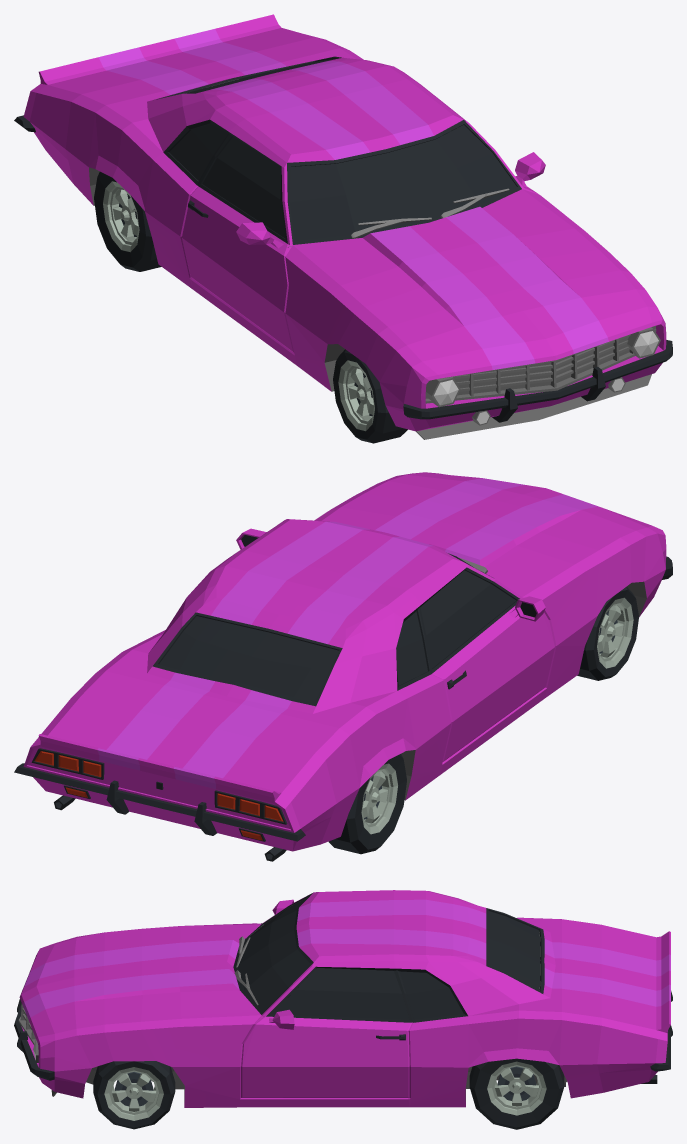
Rendered from Mus_Purple.fbx.
3 views of the same model, one above another, from view 1: azimuth 30°, elevation 25°; view 2: azimuth 150°, elevation 25°; view 3: azimuth 270°, elevation 25° (orthographic). The views are drawn at different scales.
Parts seen in each view (by area): view 1: SM_Veh_Car_Muscle_01.004, SM_Veh_Car_Muscle_Wheel_rr.004, SM_Veh_Car_Muscle_Wheel_fr.004; view 2: SM_Veh_Car_Muscle_01.004, SM_Veh_Car_Muscle_Wheel_rr.004, SM_Veh_Car_Muscle_Wheel_fr.004; view 3: SM_Veh_Car_Muscle_01.004, SM_Veh_Car_Muscle_Wheel_rl.004, SM_Veh_Car_Muscle_Wheel_fl.004.
Boxes of the visible parts, bbox=[...] form: SM_Veh_Car_Muscle_01.004: bbox=[14, 14, 672, 439]; SM_Veh_Car_Muscle_Wheel_rr.004: bbox=[94, 171, 161, 271]; SM_Veh_Car_Muscle_Wheel_fr.004: bbox=[333, 349, 407, 443]; SM_Veh_Car_Muscle_01.004: bbox=[14, 472, 672, 861]; SM_Veh_Car_Muscle_Wheel_rr.004: bbox=[328, 754, 406, 854]; SM_Veh_Car_Muscle_Wheel_fr.004: bbox=[577, 586, 638, 680]; SM_Veh_Car_Muscle_01.004: bbox=[14, 890, 672, 1107]; SM_Veh_Car_Muscle_Wheel_rl.004: bbox=[469, 1058, 564, 1129]; SM_Veh_Car_Muscle_Wheel_fl.004: bbox=[93, 1061, 175, 1129].
Size of the model in its own units: 2.21 by 1.36 by 5.13.
